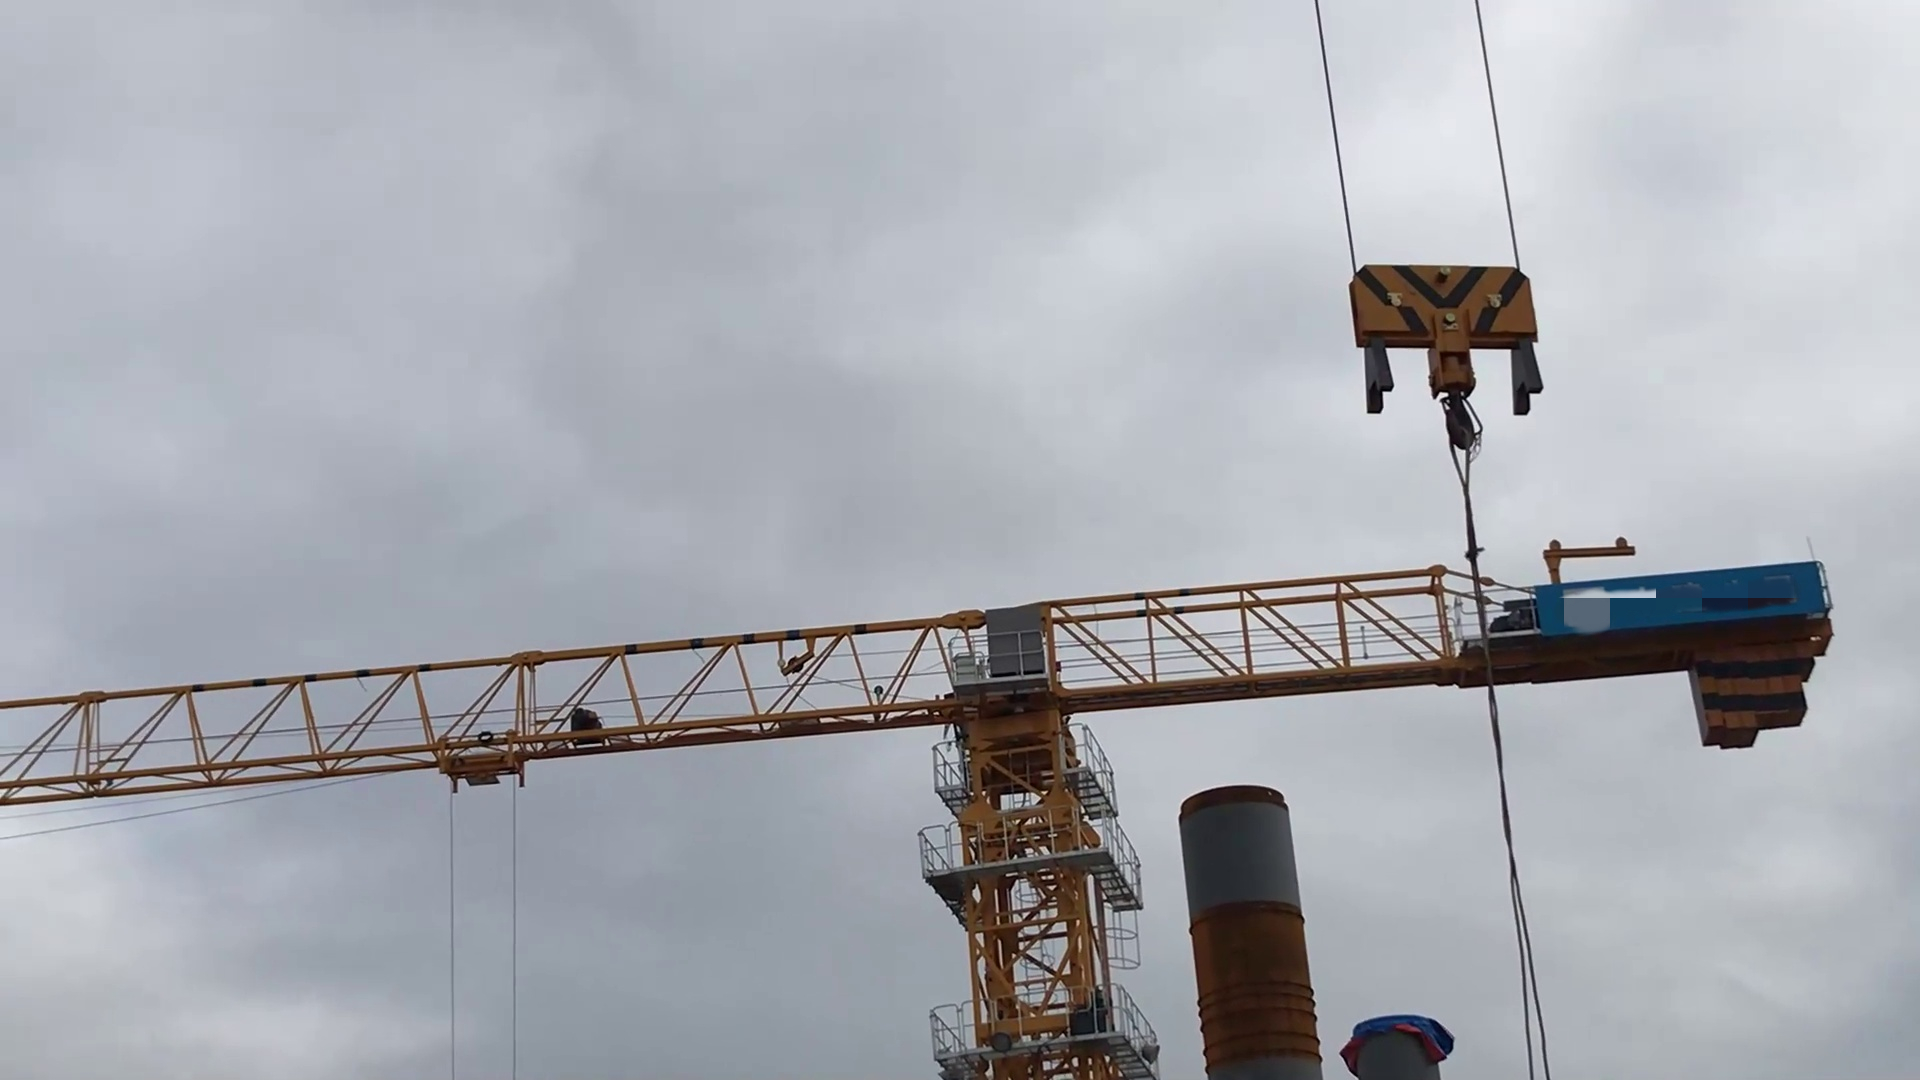hook: (1340, 252, 1556, 463)
